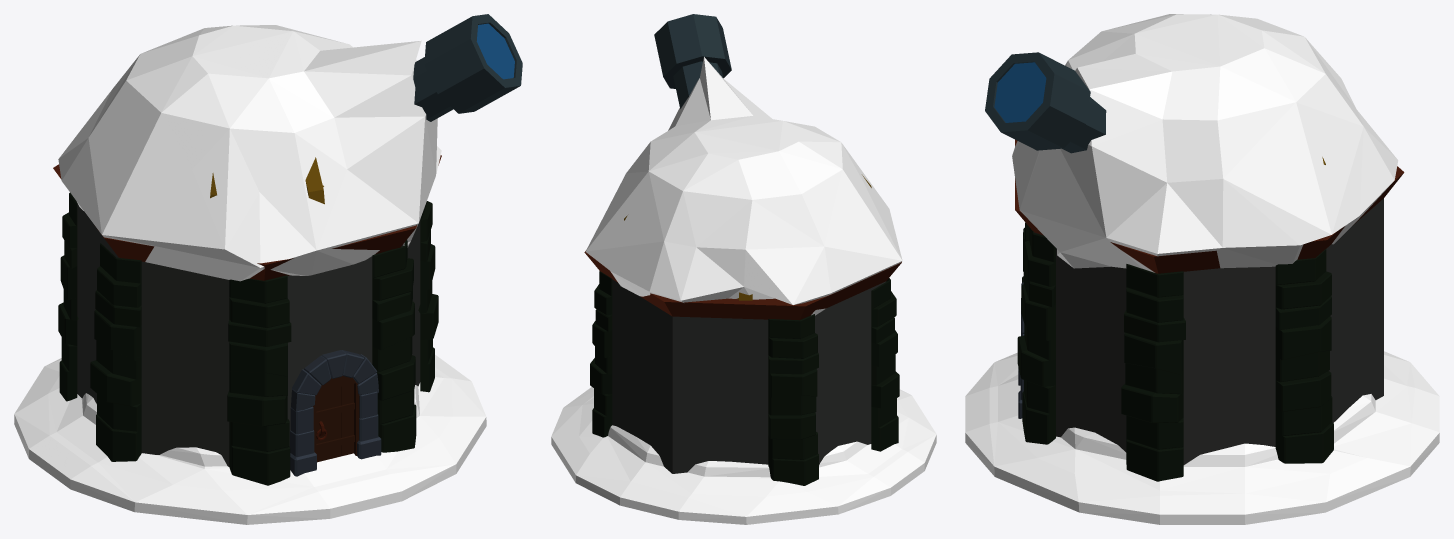
Rendered from WizardShopWSnow_01.obj.
3 renders of one model, left to right at view 1: azimuth 30°, elevation 25°; view 2: azimuth 150°, elevation 25°; view 3: azimuth 270°, elevation 25°, orthographic. The views are drawn at different scales.
Parts seen in each view (by area): view 1: Wizard_Shop_Circle.001; view 2: Wizard_Shop_Circle.001; view 3: Wizard_Shop_Circle.001.
Part boxes in pixels (<box>): Wizard_Shop_Circle.001: <box>14,14,522,524</box>; Wizard_Shop_Circle.001: <box>551,14,936,524</box>; Wizard_Shop_Circle.001: <box>965,14,1439,524</box>.
Size of the model in its own units: 10.99 by 11.93 by 10.99.
